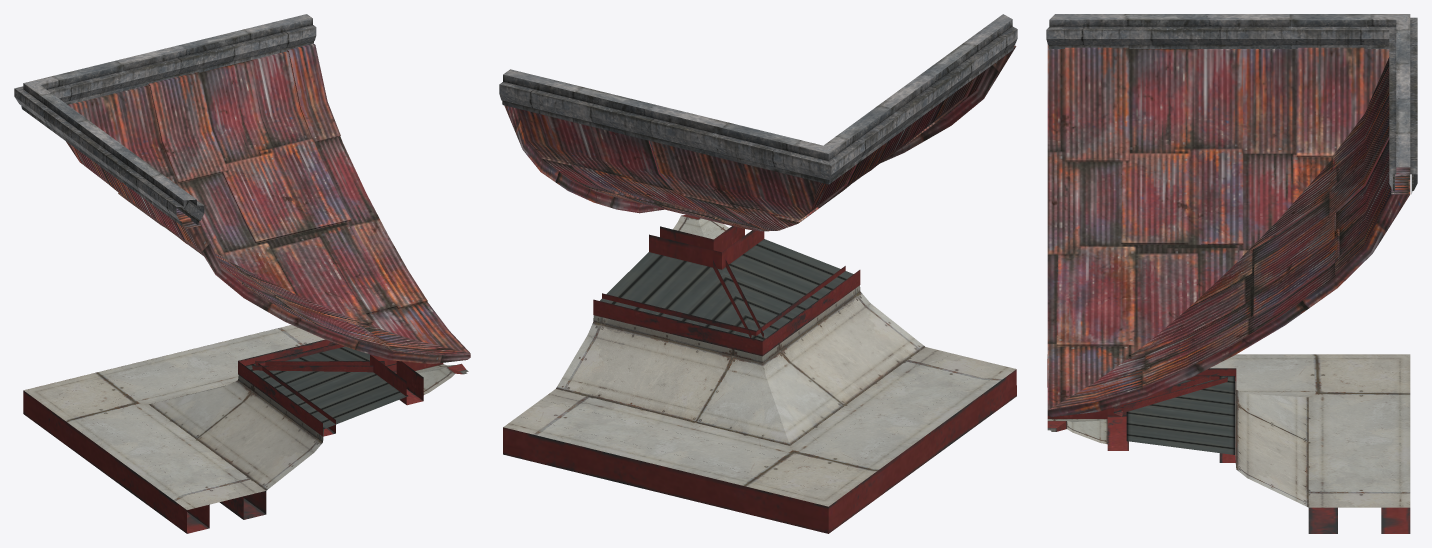
The model's file is Pagoda_Tile_Roof_CornerInner_2500x2500_A.FBX.
The picture shows the model from 3 angles, left to right: view 1: azimuth 30°, elevation 25°; view 2: azimuth 150°, elevation 25°; view 3: azimuth 270°, elevation 25°; orthographic projection. The views are drawn at different scales.
Visible parts, largest first — view 1: Geometry_Pagoda_Tile_Roof_CornerInner_2500x2500_A_LOD00; view 2: Geometry_Pagoda_Tile_Roof_CornerInner_2500x2500_A_LOD00; view 3: Geometry_Pagoda_Tile_Roof_CornerInner_2500x2500_A_LOD00.
Boxes of the visible parts, <box> form: Geometry_Pagoda_Tile_Roof_CornerInner_2500x2500_A_LOD00: <box>14,14,470,533</box>; Geometry_Pagoda_Tile_Roof_CornerInner_2500x2500_A_LOD00: <box>499,14,1017,533</box>; Geometry_Pagoda_Tile_Roof_CornerInner_2500x2500_A_LOD00: <box>1046,14,1417,533</box>.
Size of what is drawn, in the model's own units: 2550 by 2789 by 2559.
Materials: 3 (3 with a texture image).
